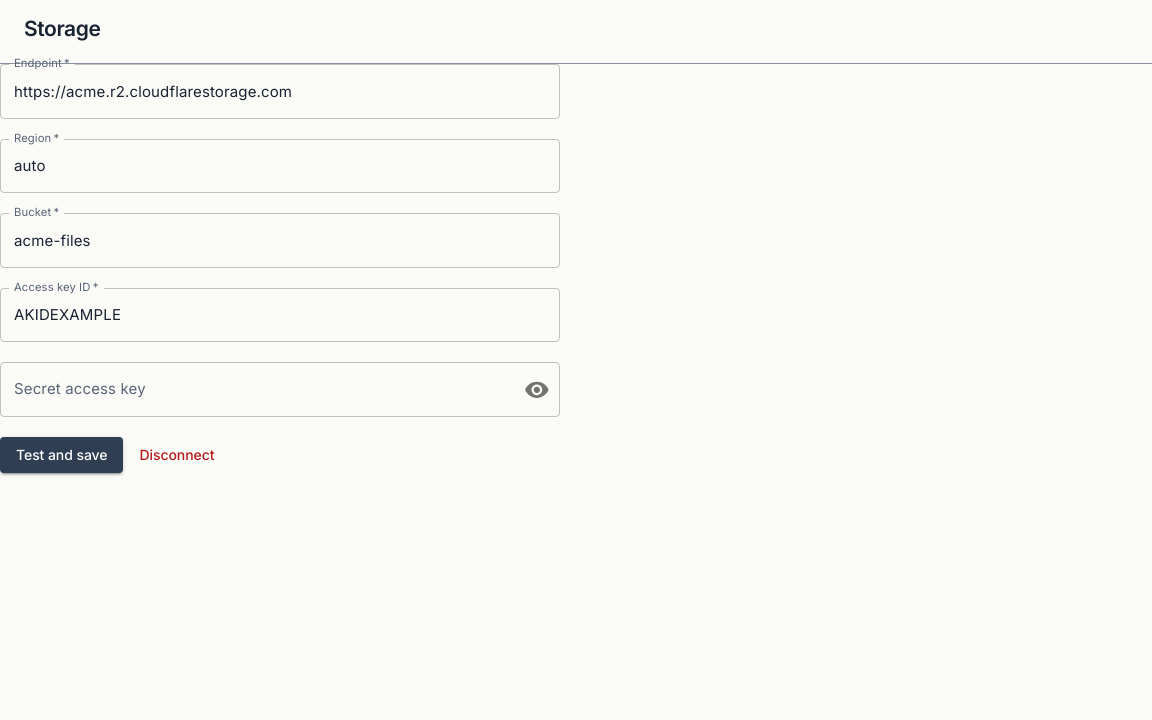
Test: Storage settings (M0006-02-R015) › R006, AC10: disconnects after "Disconnect storage?", with the revision
Click the button "Disconnect" at (177, 455), box [131, 437, 222, 473]
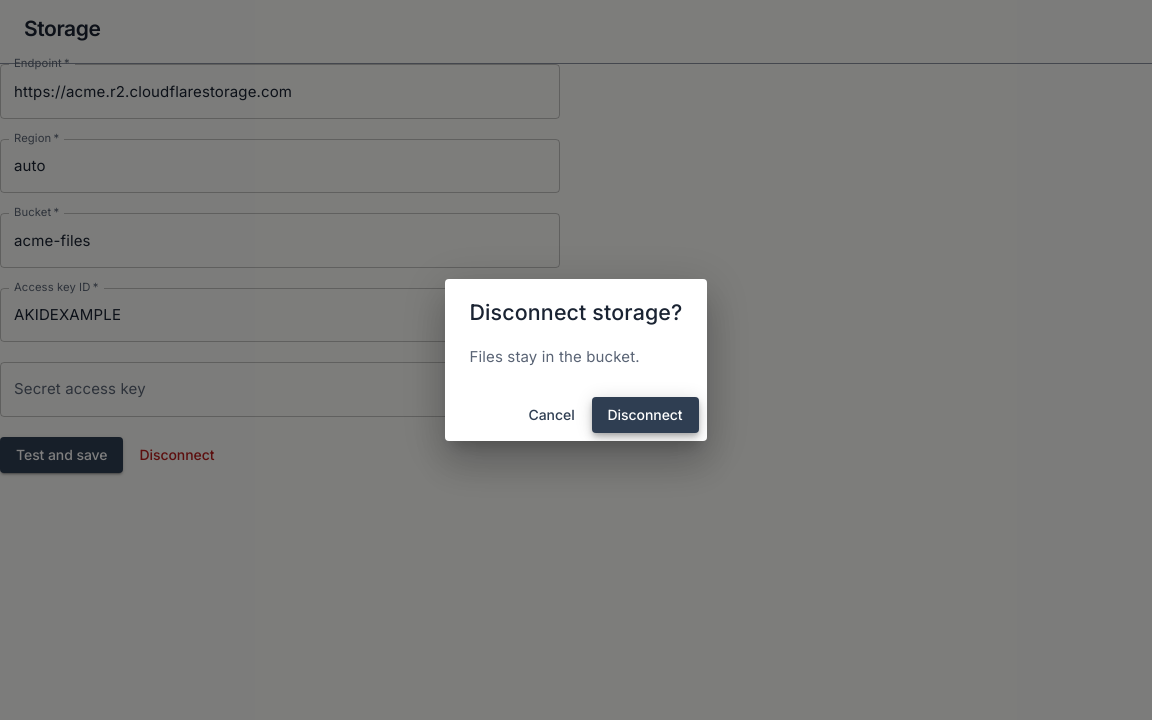
Click the button "Disconnect" at (645, 415), box [592, 396, 698, 433]
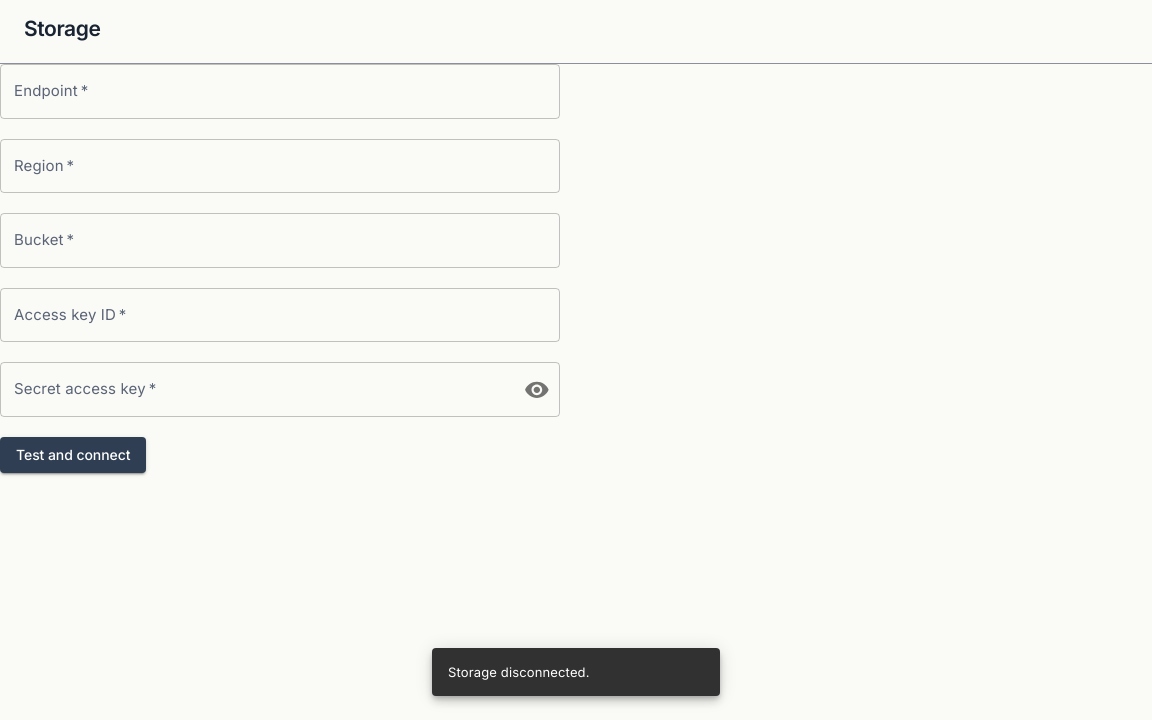
Now the text "Storage disconnected." is shown, box [448, 664, 590, 680]
Now the button "Test and connect" is shown, box [0, 437, 146, 473]
